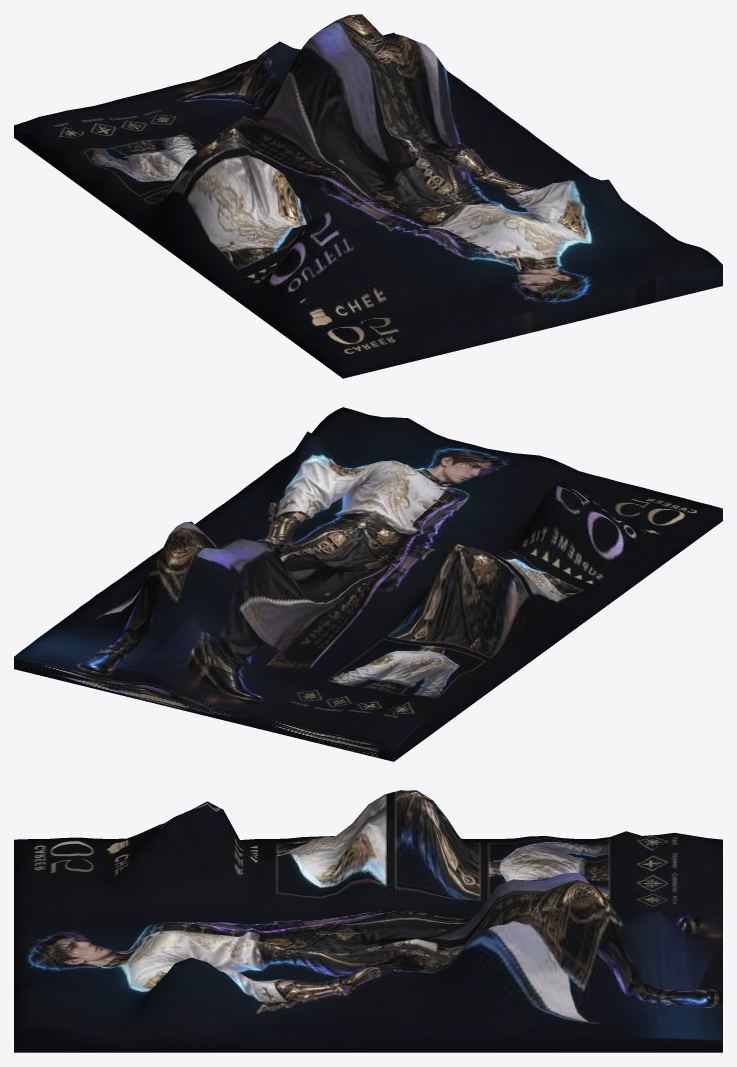
Rendered from CAREER_05_Outfit_05_Supreme.glb.
3 views of the same model, one above another, from view 1: azimuth 30°, elevation 25°; view 2: azimuth 150°, elevation 25°; view 3: azimuth 270°, elevation 25° (orthographic). The views are drawn at different scales.
Parts seen in each view (by area): view 1: CAREER_05_Outfit_05_Supreme; view 2: CAREER_05_Outfit_05_Supreme; view 3: CAREER_05_Outfit_05_Supreme.
Part boxes in pixels (x1,y1,x2,y2): CAREER_05_Outfit_05_Supreme: (14, 14, 722, 378); CAREER_05_Outfit_05_Supreme: (14, 407, 722, 761); CAREER_05_Outfit_05_Supreme: (14, 790, 722, 1052).
Bounding box in the file's own units: 2 × 0.51 × 3.
1 material, 1 textured.
